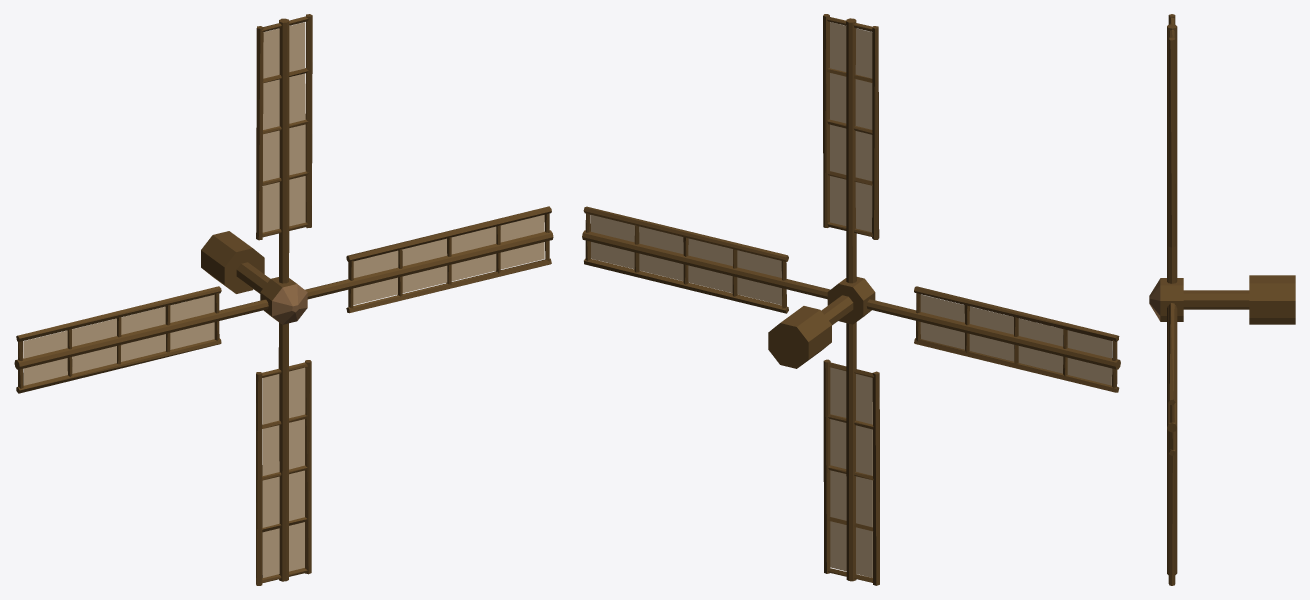
The model's file is MillPart_02.fbx.
3 views of the same model, side by side, from view 1: azimuth 30°, elevation 25°; view 2: azimuth 150°, elevation 25°; view 3: azimuth 270°, elevation 25° (orthographic). The views are drawn at different scales.
Parts seen in each view (by area): view 1: MillPart_02; view 2: MillPart_02; view 3: MillPart_02.
Part boxes in pixels (x1,y1,x2,y2): MillPart_02: (14, 14, 553, 585); MillPart_02: (582, 14, 1120, 585); MillPart_02: (1149, 14, 1295, 585).
Size of the model in its own units: 7.34 by 7.34 by 1.78.
